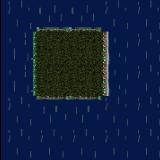Slow: (0, 101, 160, 160), (0, 0, 160, 27), (109, 26, 160, 101), (0, 27, 31, 102)
